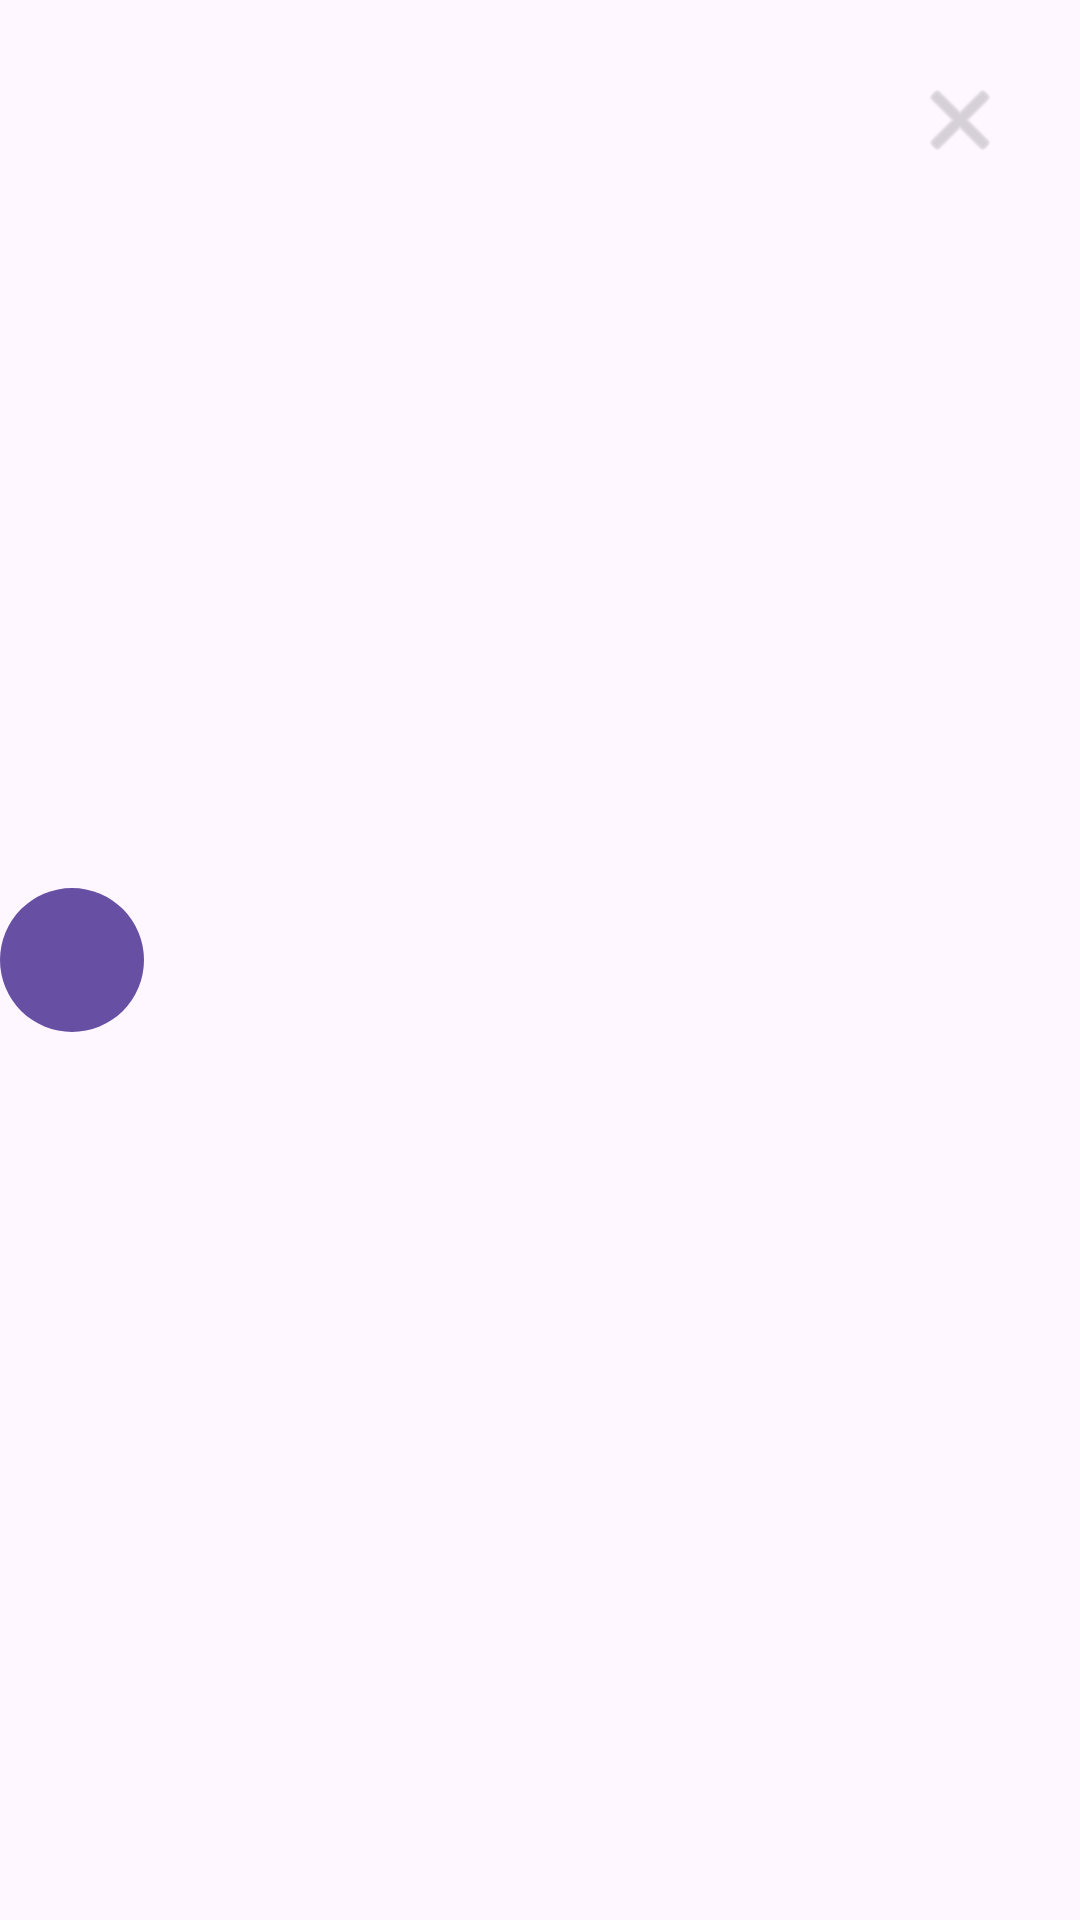

Locate icon controls on the screen. Image size 1080w x 1920h, boxes as (x1, y1, x2, y2).
Закрыть: (932, 92, 988, 148)
